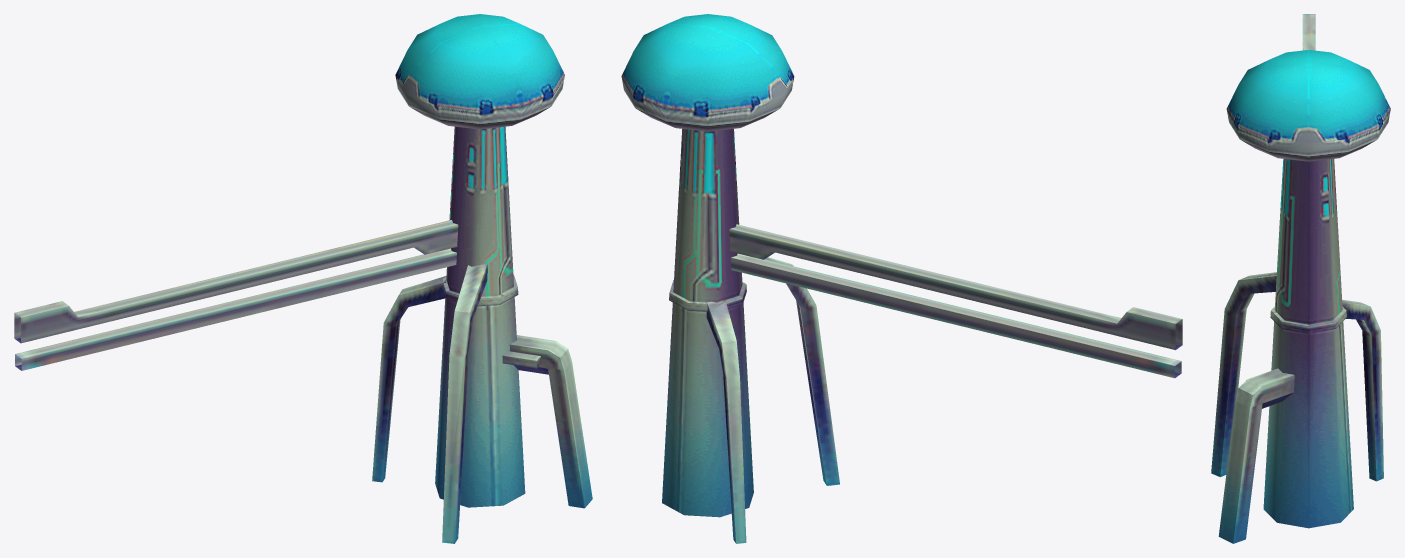
The model's file is cj_building6.fbx.
3 renders of one model, left to right at view 1: azimuth 30°, elevation 25°; view 2: azimuth 150°, elevation 25°; view 3: azimuth 270°, elevation 25°, orthographic. The views are drawn at different scales.
Parts seen in each view (by area): view 1: building6, bujian; view 2: building6, bujian; view 3: building6, bujian.
Part boxes in pixels (x1,y1,x2,y2): building6: (372,14,592,543); bujian: (14,220,458,370); building6: (621,14,839,543); bujian: (729,224,1182,378); building6: (1211,50,1390,543); bujian: (1302,14,1315,50).
Bounding box in the file's own units: 7201 × 5941 × 2160.
